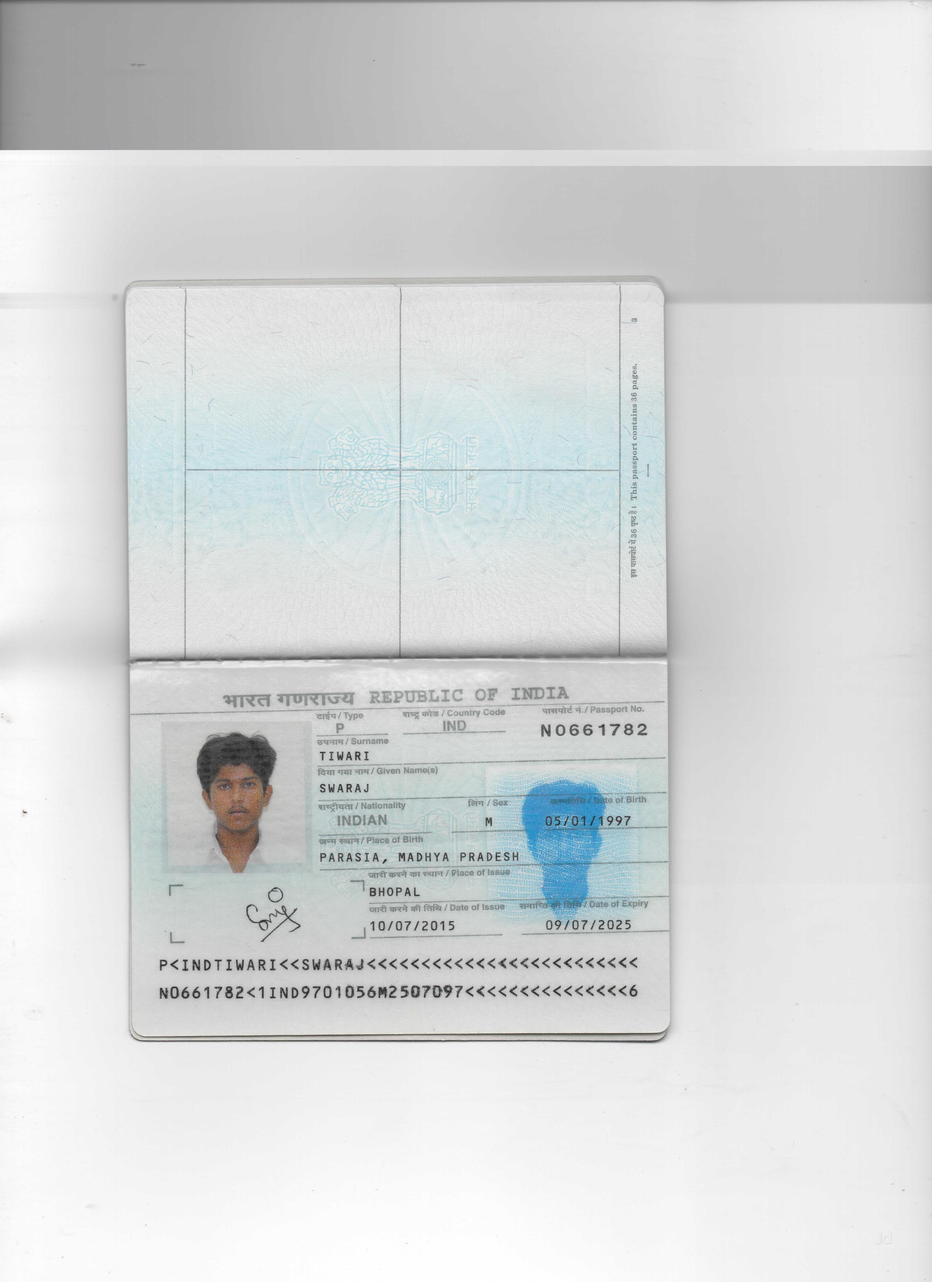DOB: (538, 808, 640, 829)
Surname: (319, 747, 376, 766)
country_code: (433, 716, 479, 735)
date_of_expiry: (537, 912, 647, 936)
date_of_issue: (362, 914, 464, 938)
details: (151, 954, 644, 1007)
name: (315, 779, 374, 796)
nationality: (330, 809, 398, 832)
passport_no: (537, 720, 652, 741)
photo: (165, 726, 304, 866)
place_of_birth: (314, 848, 528, 866)
place_of_issue: (365, 881, 425, 902)
sex: (475, 810, 501, 832)
sign: (234, 887, 312, 945)
type: (331, 718, 353, 738)
